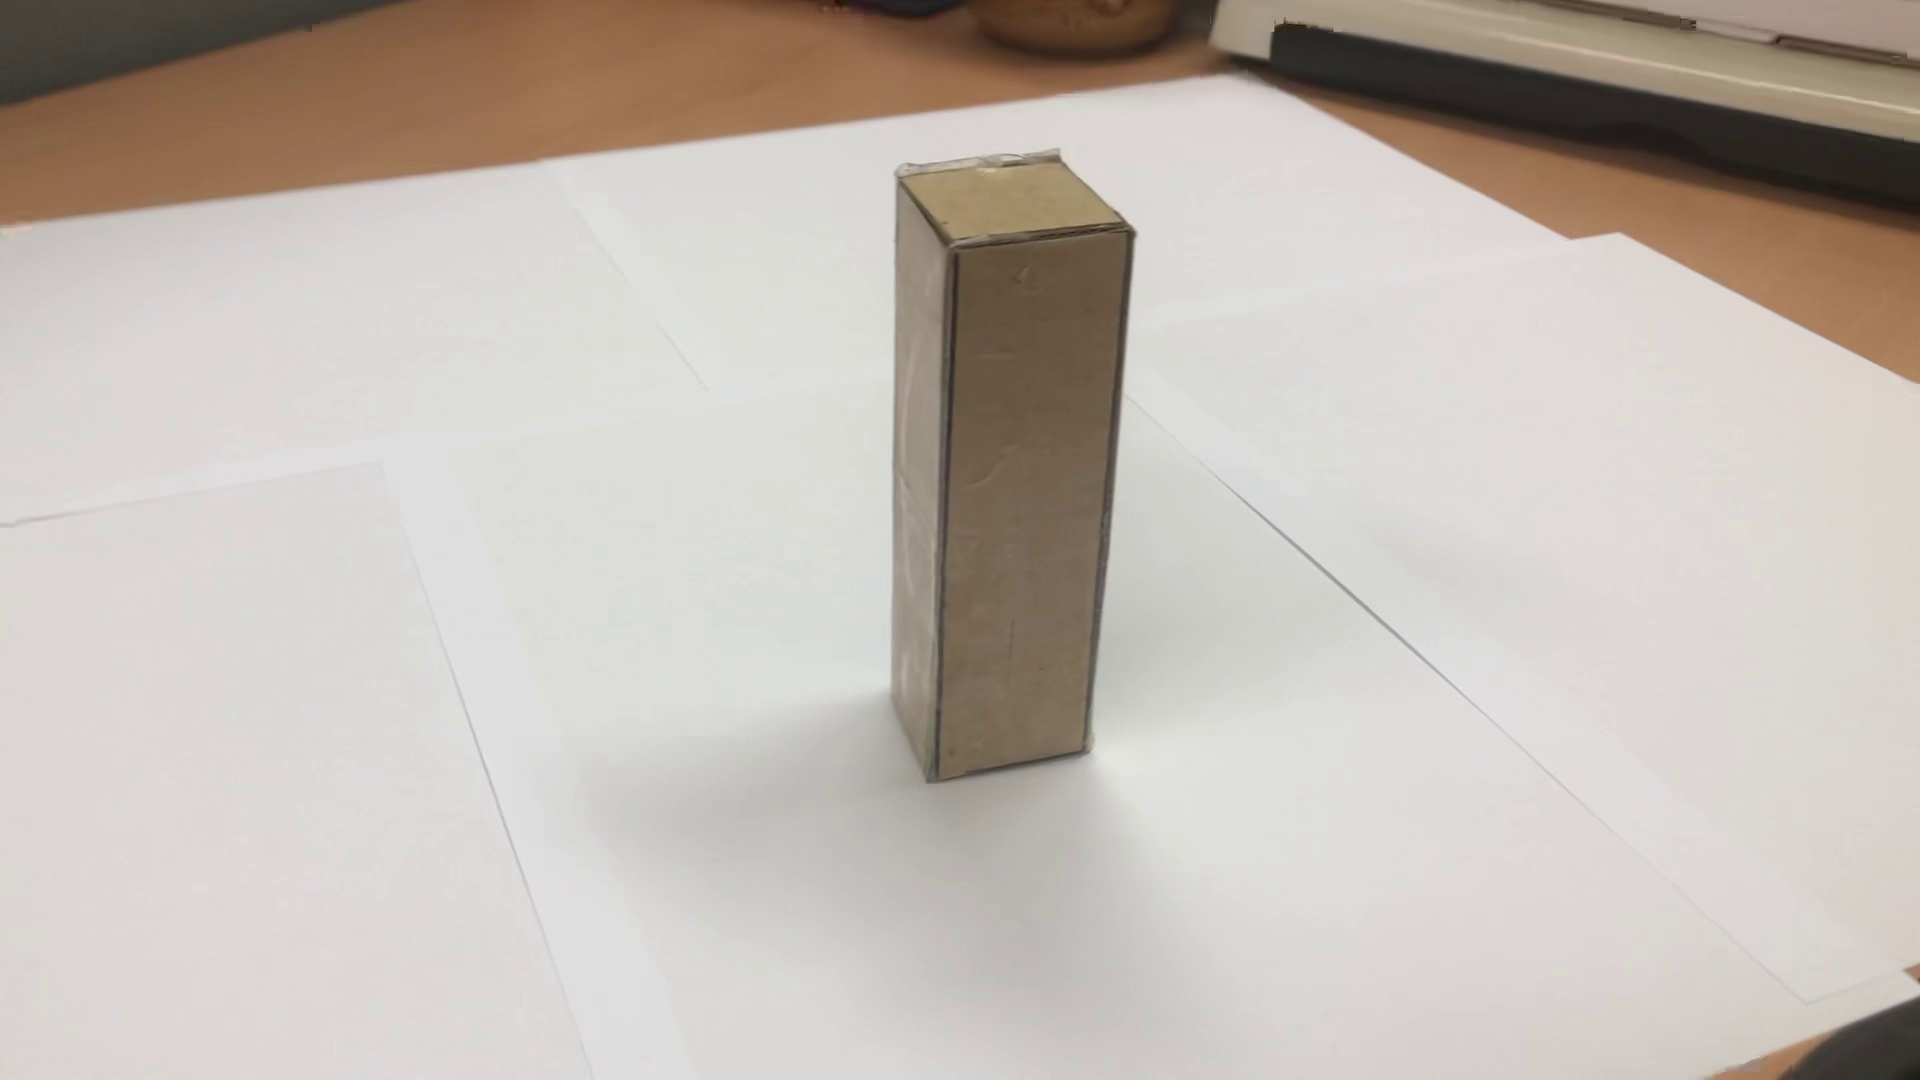box: (868, 138, 1147, 793)
